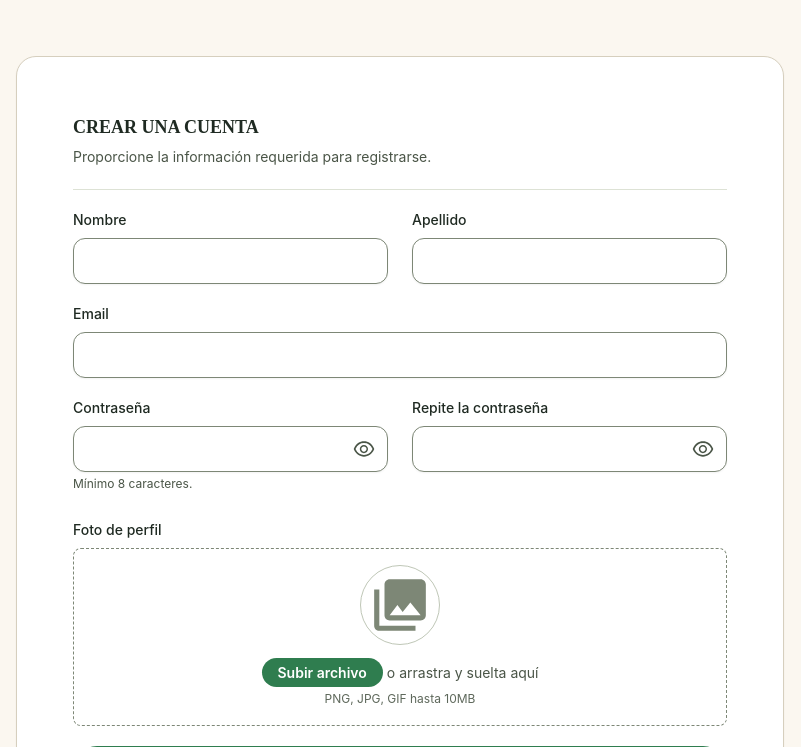
Test: Registration › announces a known error from the account service
This screenshot has width=801, height=747.
Step 1. Type "Ana" into the field labelled "Nombre" → x=230, y=261, box [73, 238, 388, 284]
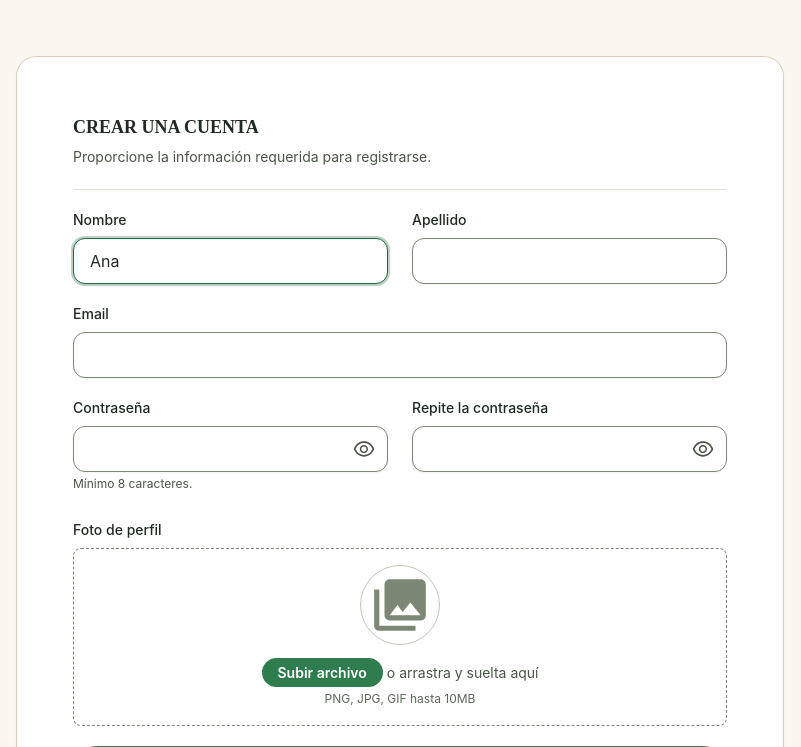
Step 2. Type "Pérez" into the field labelled "Apellido" → x=570, y=261, box [412, 238, 727, 284]
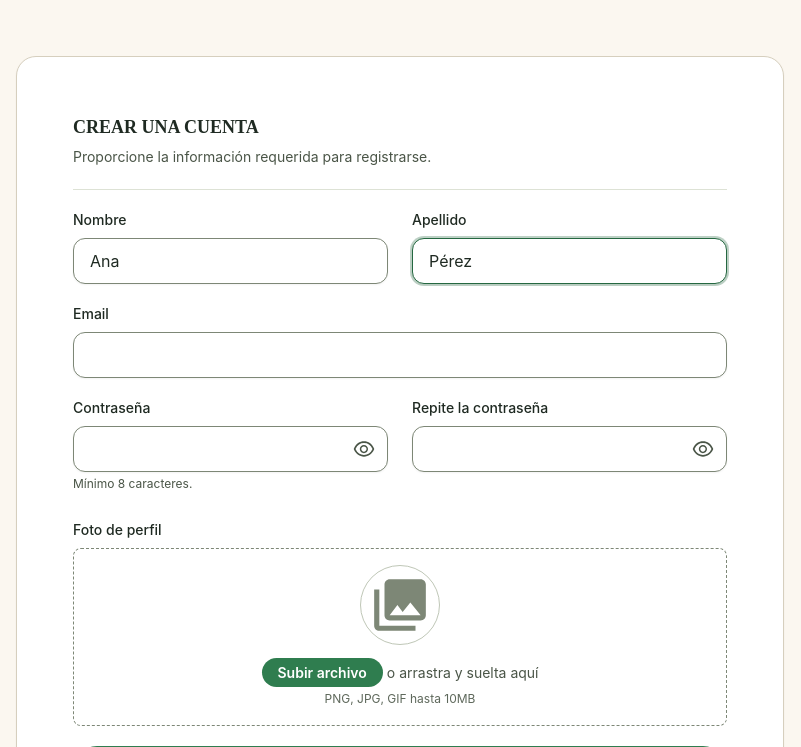
Step 3. Type "ana@example.com" into the field labelled "Email" → x=400, y=355, box [73, 332, 727, 378]
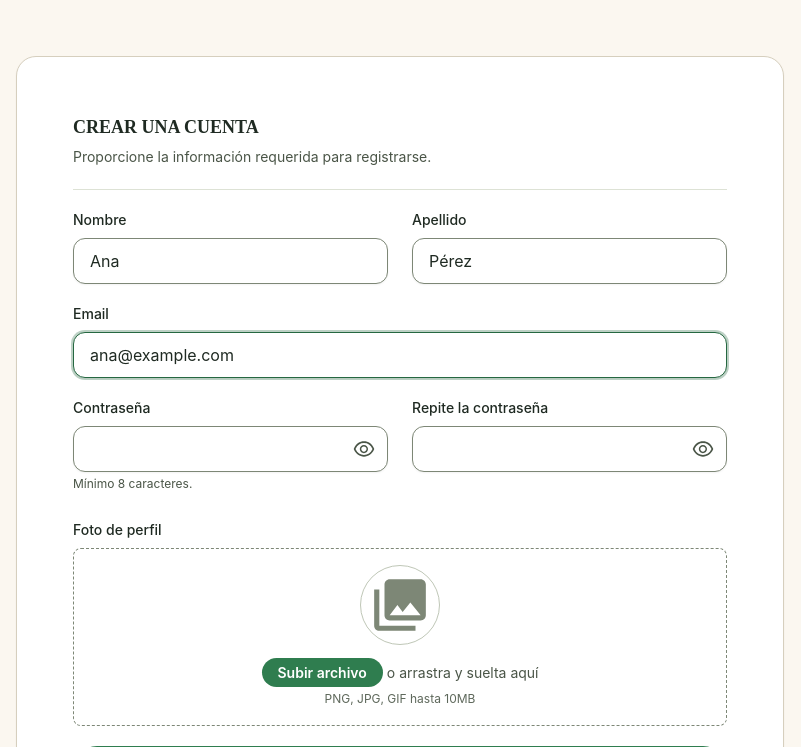
Step 4. Type "secret123" into the password field labelled "Contraseña" → x=230, y=449, box [73, 426, 388, 472]
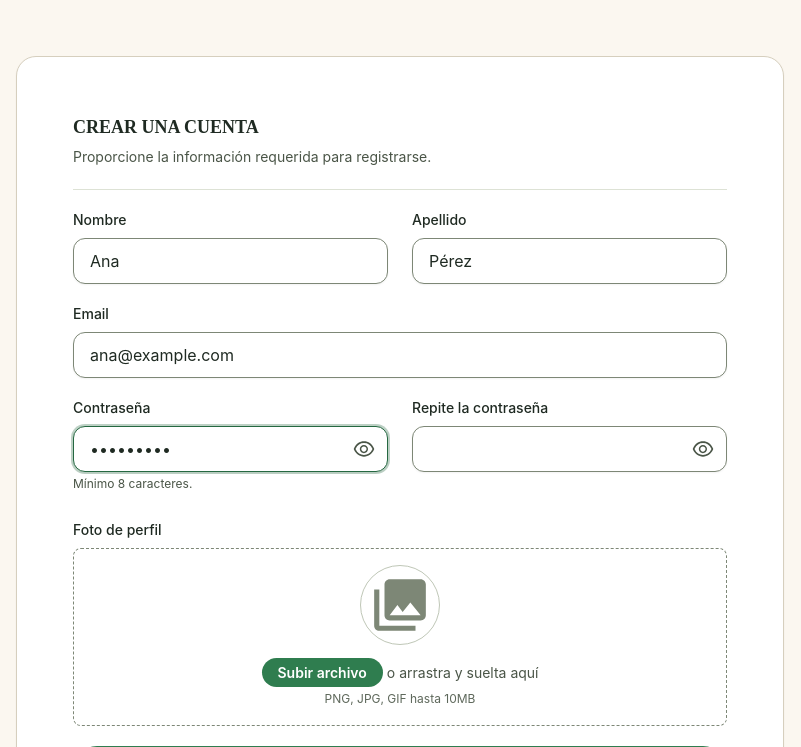
Step 5. Type "secret123" into the password field labelled "Repite la contraseña" → x=570, y=449, box [412, 426, 727, 472]
(page scrolled)
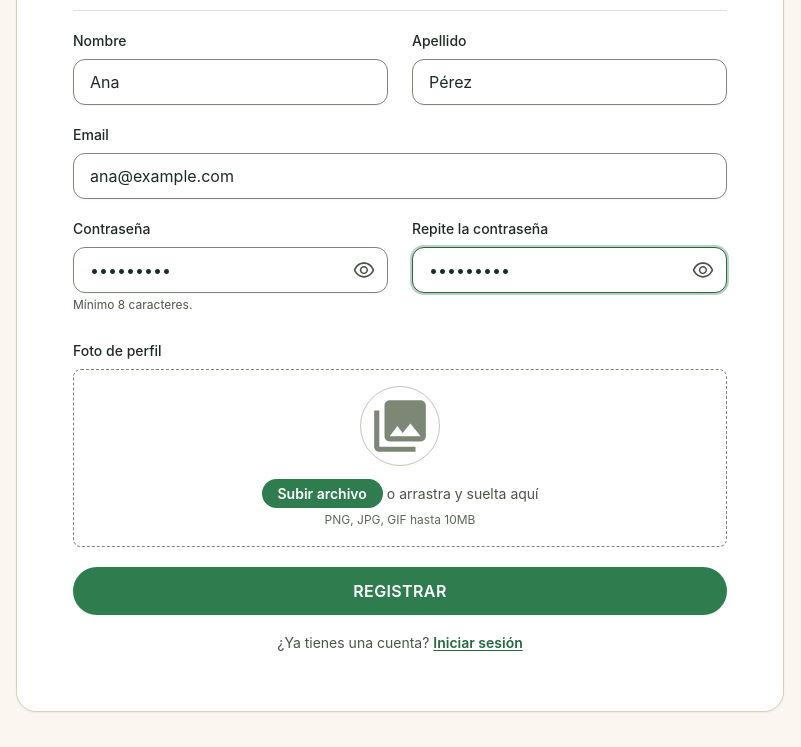
Step 6. Click the button "Registrar" → x=400, y=591, box [73, 567, 727, 615]
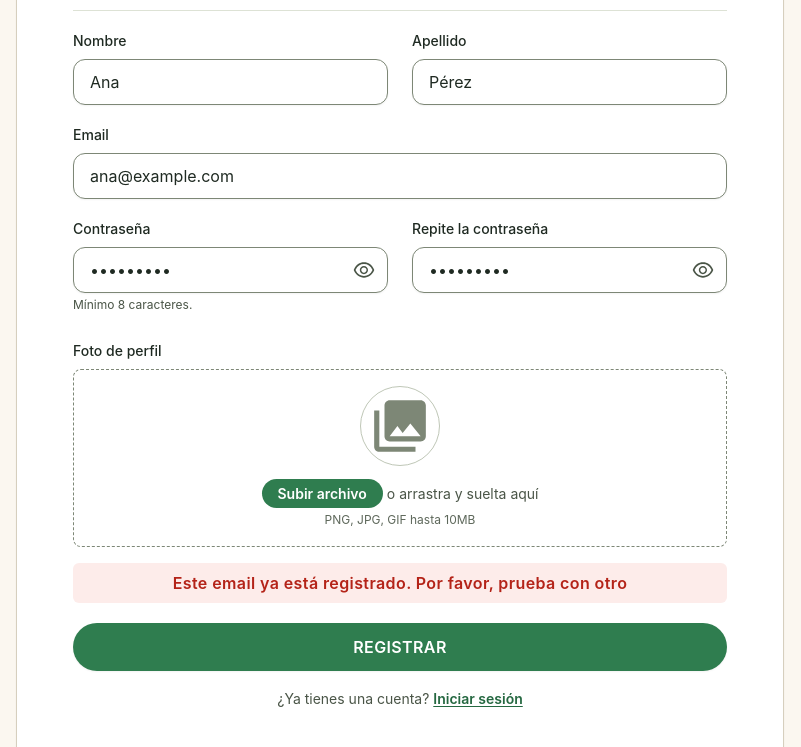
Expected: the message shows "ya está registrado", [173, 573, 627, 593]
